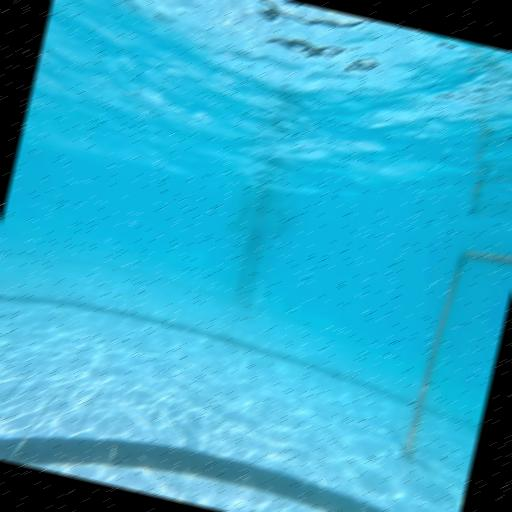gate: (398, 239, 512, 474)
